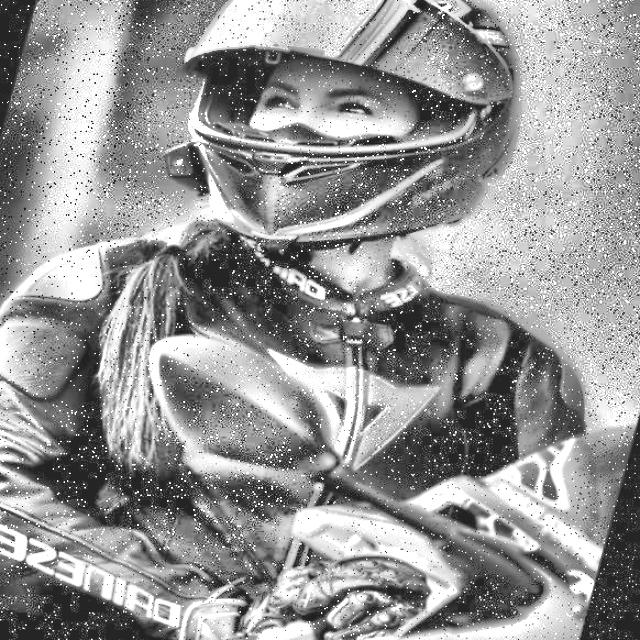Helmet: (128, 0, 568, 294)
